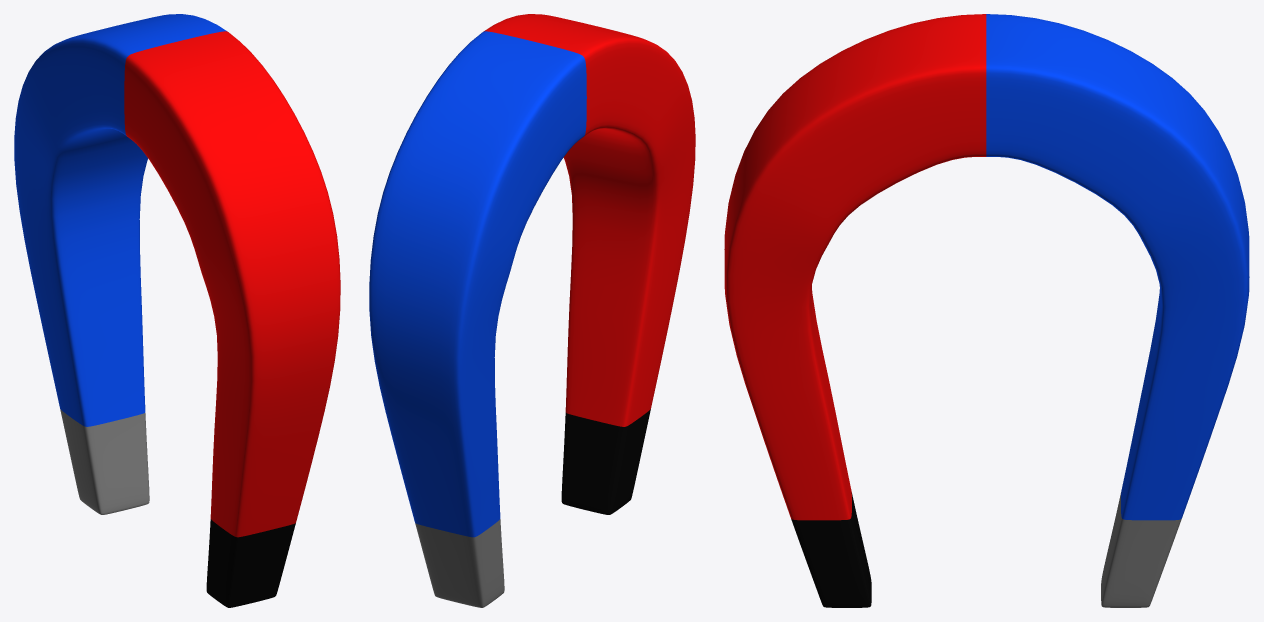
File: citie.fbx
3 renders of one model, left to right at view 1: azimuth 30°, elevation 25°; view 2: azimuth 150°, elevation 25°; view 3: azimuth 270°, elevation 25°, orthographic. The views are drawn at different scales.
Parts seen in each view (by area): view 1: pCube4; view 2: pCube4; view 3: pCube4.
Boxes of the visible parts, x1=… form: pCube4: x1=14, y1=14, x2=340, y2=607; pCube4: x1=369, y1=14, x2=695, y2=607; pCube4: x1=724, y1=14, x2=1249, y2=607.
Size of the model in its own units: 1.53 by 6.93 by 5.91.
